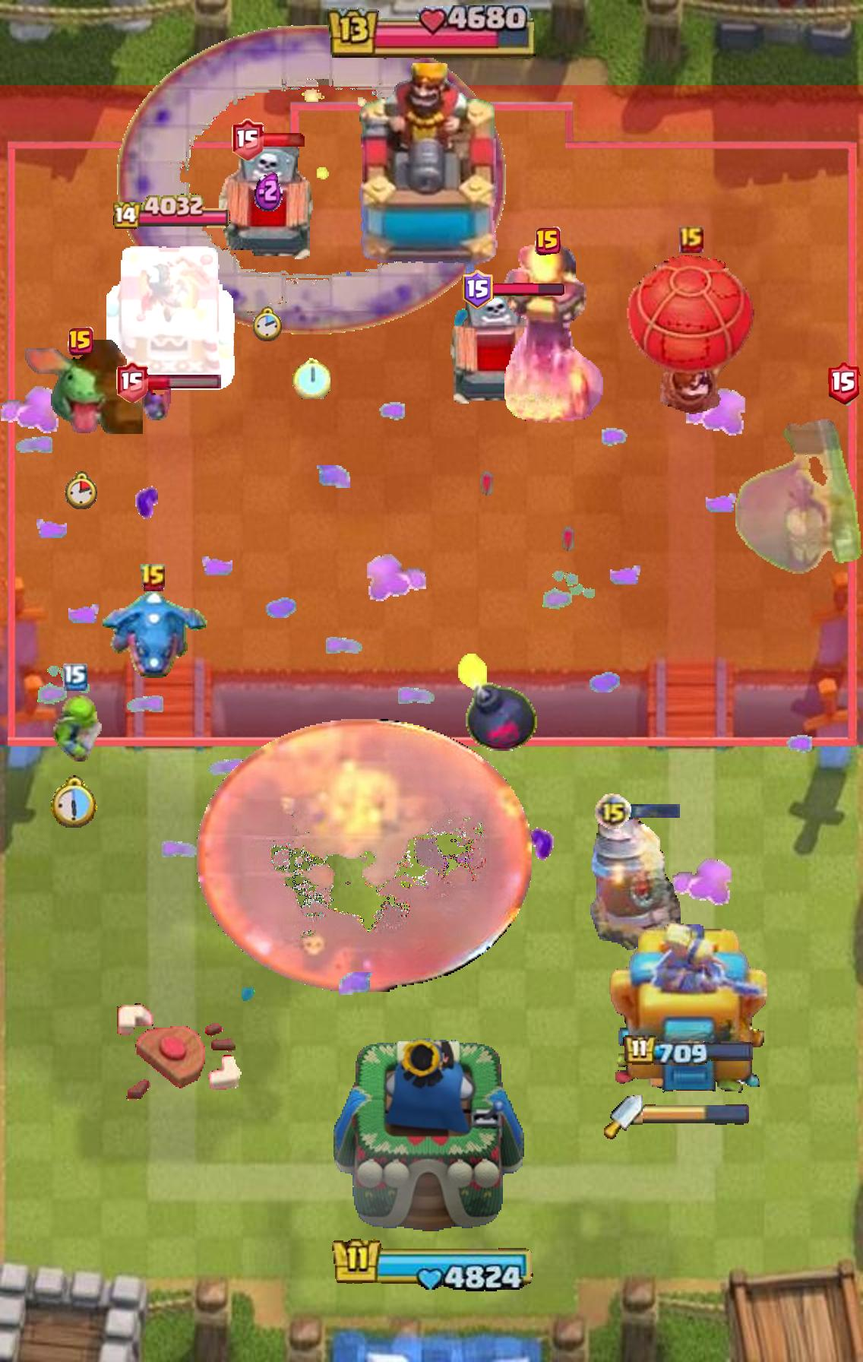elixir: (255, 169, 283, 211)
